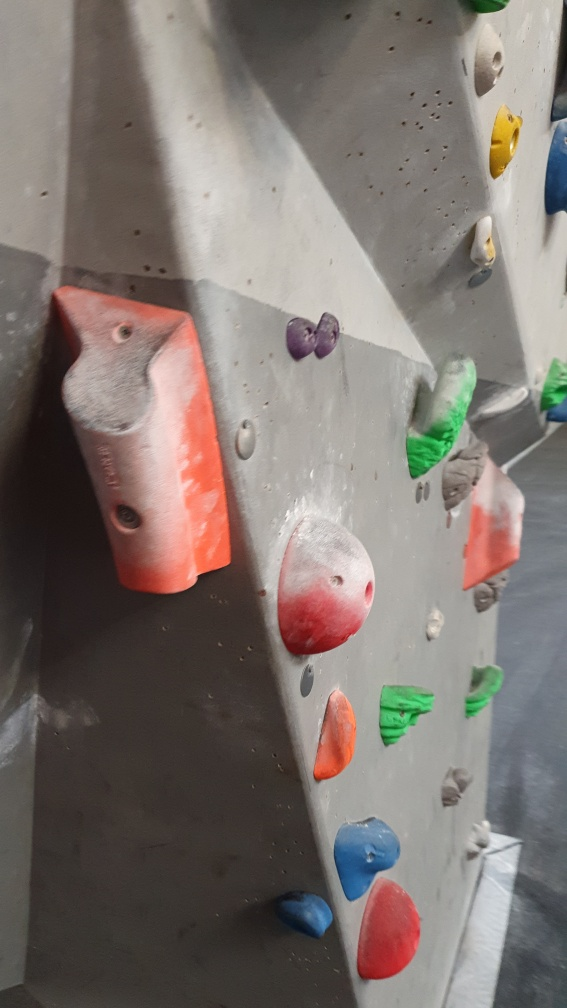Hand Start: (231, 414, 261, 461), (297, 661, 320, 697)
Jug: (410, 353, 476, 478), (377, 680, 437, 750), (464, 663, 506, 718)
Pinch: (49, 275, 231, 598), (460, 450, 523, 584)
Sloper: (270, 511, 380, 654), (353, 873, 424, 981)
